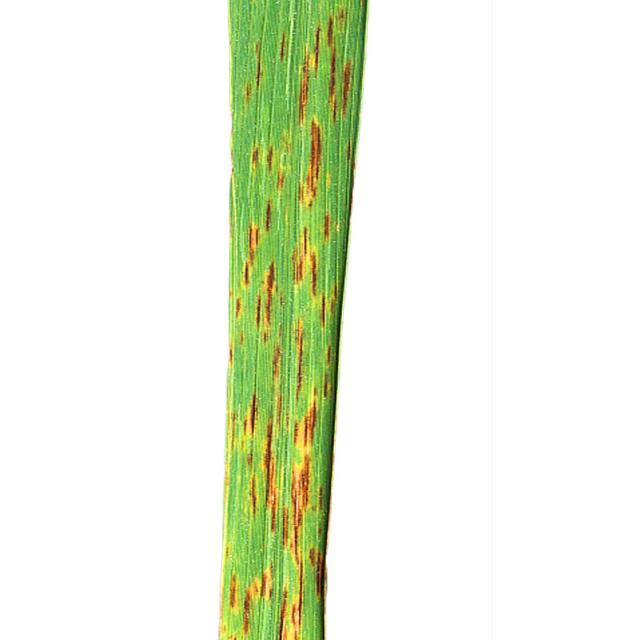Narrow brown: (212, 0, 382, 640)
